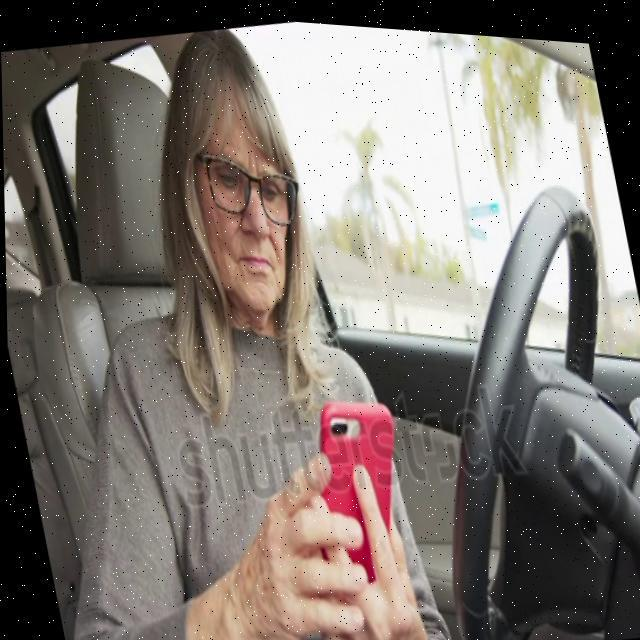PhoneCall: (302, 382, 426, 614)
